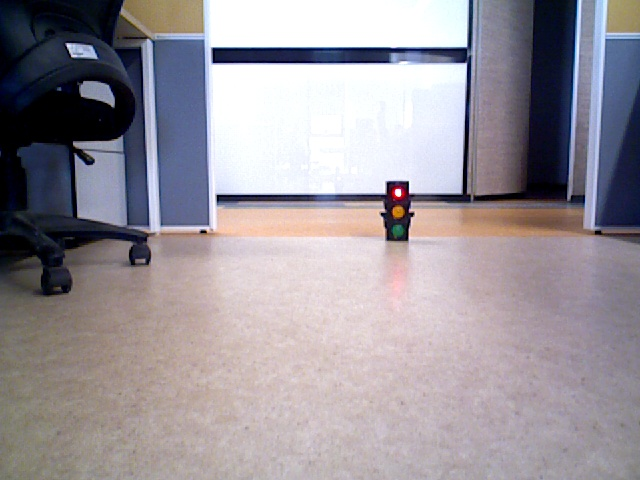red: (385, 182, 410, 237)
